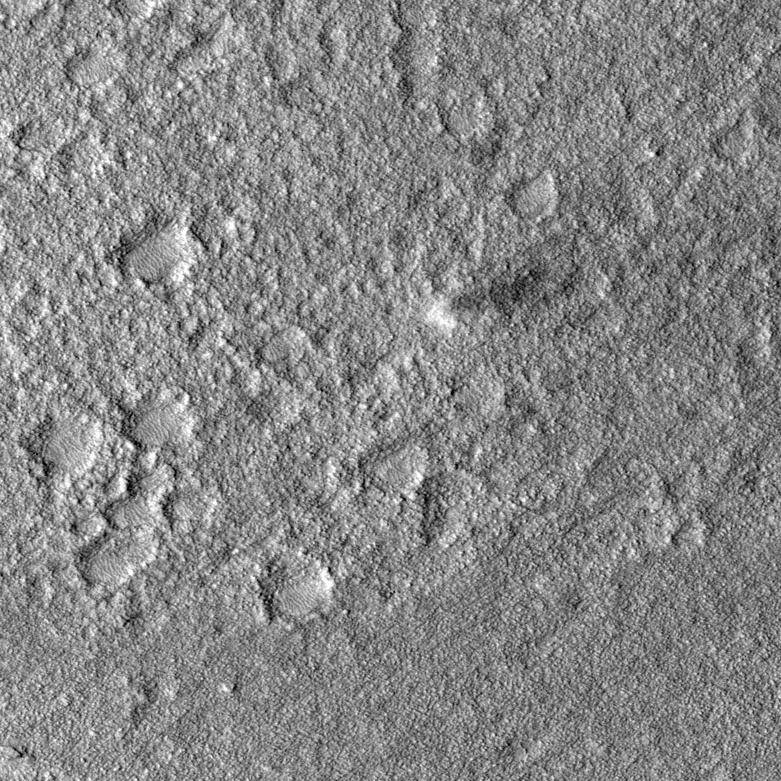dust_devil: (424, 261, 564, 335)
